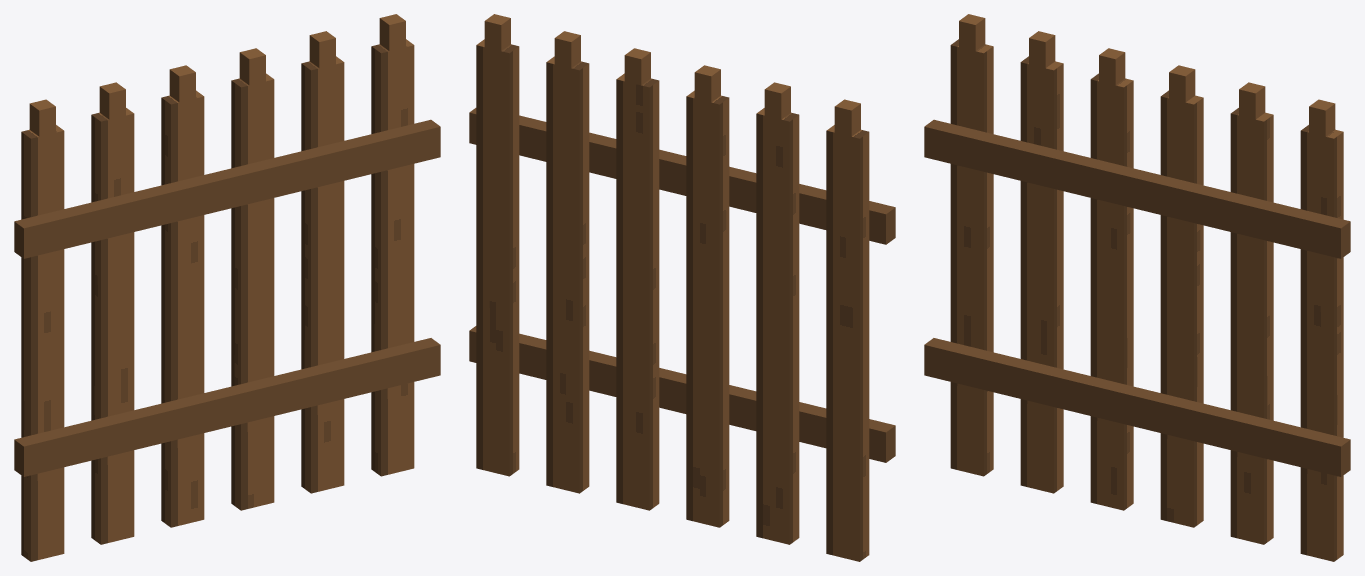
File: t_fence.glb
3 views of the same model, side by side, from view 1: azimuth 30°, elevation 25°; view 2: azimuth 150°, elevation 25°; view 3: azimuth 330°, elevation 25° (orthographic).
Parts seen in each view (by area): view 1: block_rail0.75, block_rail0.25, block_picket0, block_picket3, block_picket2, block_picket4, block_picket5, block_picket1, block_point0, block_point4, block_point1, block_point2 (+2 smaller); view 2: block_picket3, block_picket4, block_picket5, block_picket0, block_picket1, block_picket2, block_rail0.75, block_rail0.25, block_point1, block_point4, block_point2, block_point3 (+2 smaller); view 3: block_rail0.75, block_rail0.25, block_picket5, block_picket2, block_picket0, block_picket1, block_picket3, block_picket4, block_point5, block_point1, block_point2, block_point3 (+2 smaller).
Part boxes in pixels (x1,y1,x2,y2): block_rail0.75: (14, 119, 440, 258); block_rail0.25: (14, 338, 440, 476); block_picket0: (21, 125, 64, 561); block_picket3: (231, 73, 274, 510); block_picket2: (161, 90, 204, 527); block_picket4: (301, 56, 344, 493); block_picket5: (371, 39, 414, 476); block_picket1: (91, 108, 134, 544); block_point0: (29, 99, 55, 136); block_point4: (309, 31, 335, 68); block_point1: (99, 82, 125, 119); block_point2: (169, 65, 195, 102); block_picket3: (616, 73, 659, 510); block_picket4: (546, 56, 589, 493); block_picket5: (476, 39, 519, 476); block_picket0: (826, 125, 869, 561); block_picket1: (756, 108, 799, 544); block_picket2: (686, 90, 729, 527); block_rail0.75: (469, 108, 895, 244); block_rail0.25: (469, 326, 895, 462); block_point1: (764, 82, 790, 119); block_point4: (554, 31, 580, 68); block_point2: (694, 65, 720, 102); block_point3: (624, 48, 650, 85); block_rail0.75: (924, 119, 1350, 258); block_rail0.25: (924, 338, 1350, 476); block_picket5: (1300, 125, 1343, 561); block_picket2: (1090, 73, 1133, 510); block_picket0: (950, 39, 993, 476); block_picket1: (1020, 56, 1063, 493); block_picket3: (1160, 90, 1203, 527); block_picket4: (1230, 108, 1273, 544); block_point5: (1309, 99, 1335, 136); block_point1: (1029, 31, 1055, 68); block_point2: (1099, 48, 1125, 85); block_point3: (1169, 65, 1195, 102).
Bounding box in the file's own units: 1 × 1.03 × 0.08.
Materials: 1 (1 with a texture image).
